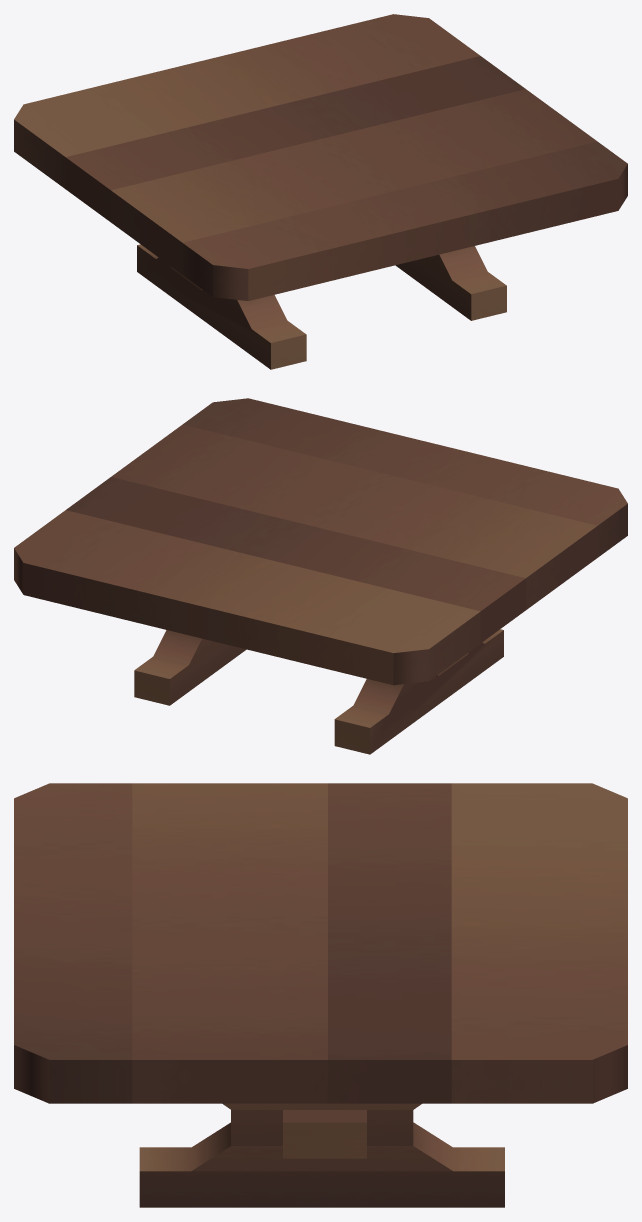
Rendered from table.fbx.
The picture shows the model from 3 angles, top to bottom: view 1: azimuth 30°, elevation 25°; view 2: azimuth 150°, elevation 25°; view 3: azimuth 270°, elevation 25°; orthographic projection. The views are drawn at different scales.
Parts seen in each view (by area): view 1: table; view 2: table; view 3: table.
Boxes of the visible parts, x1,y1,x2,y2 form: table: (14, 14, 627, 369); table: (14, 398, 627, 754); table: (14, 783, 627, 1207).
Bounding box in the file's own units: 179 × 62.39 × 168.
